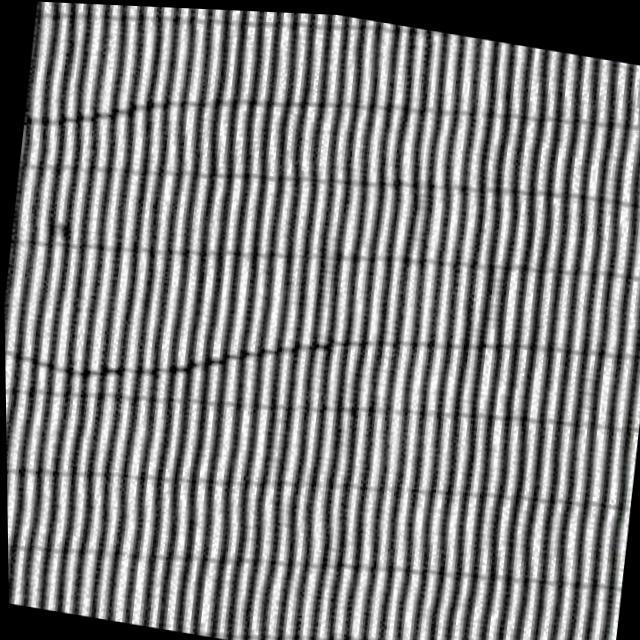Stitch: (3, 244, 395, 463)
